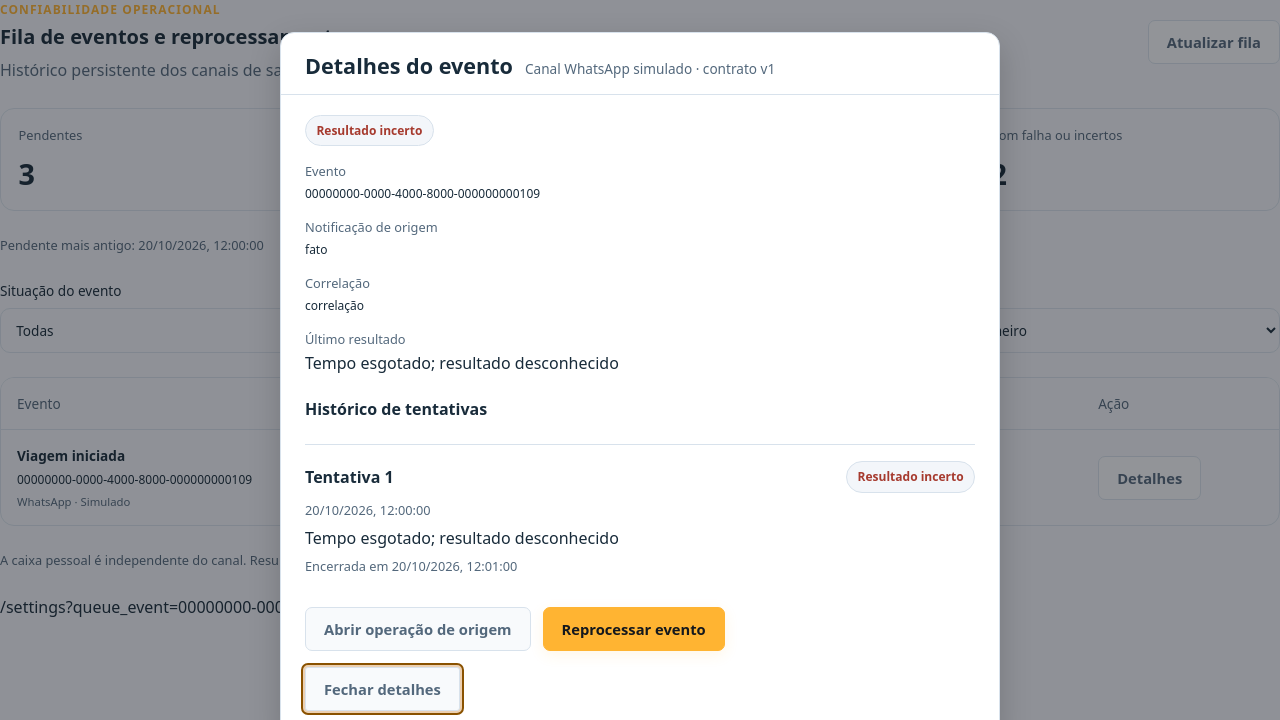
OC109: fila administrativa › revalida acesso antes de navegar para origem
Step 1. Click the button "Abrir operação de origem" → [418, 629], box x1=305 y1=607 x2=530 y2=651
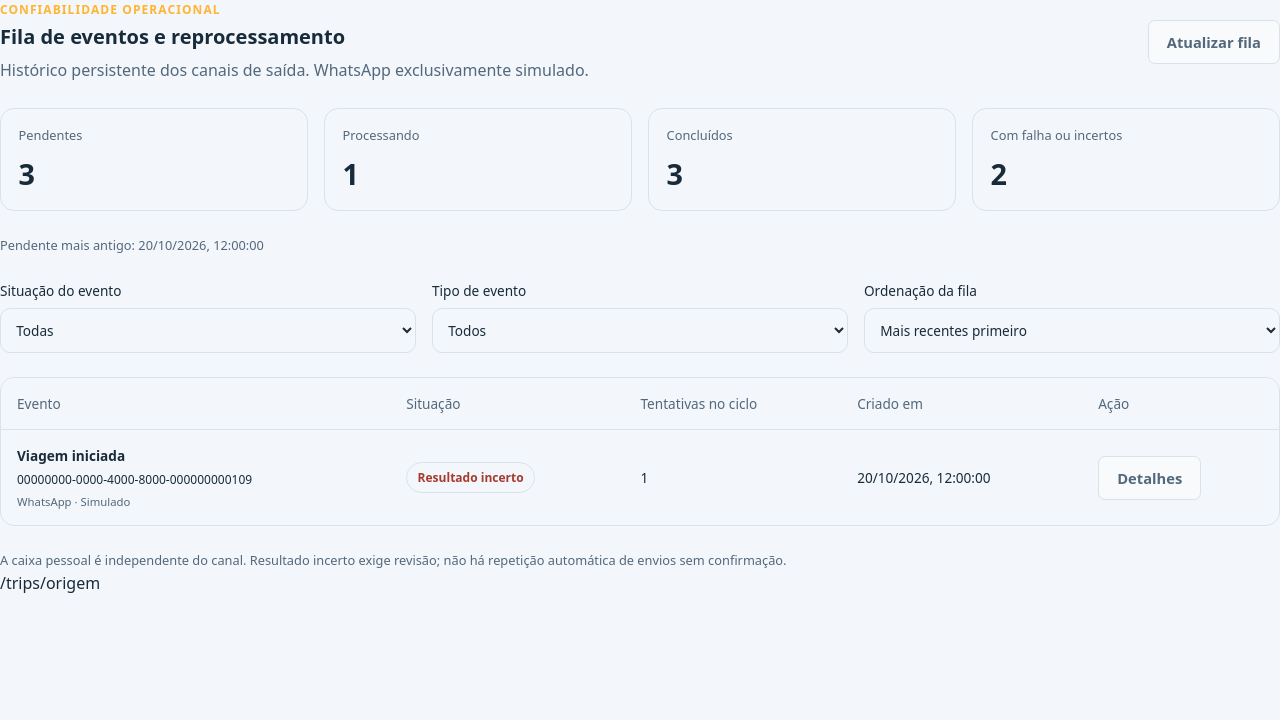
Now the text named "URL atual" reads "/trips/origem", box x1=0 y1=572 x2=100 y2=594
